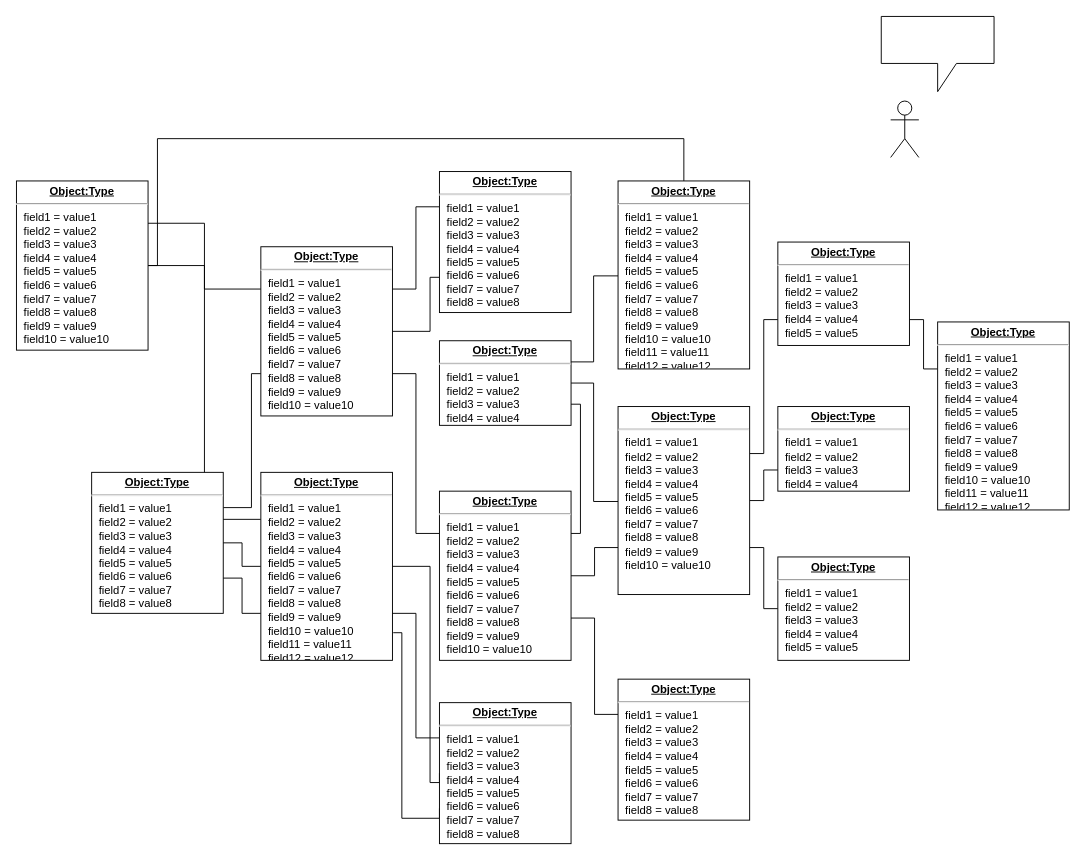
Image size: 1086x860. Some labels were removed from this diagram. The shapes that lost their labels are listed below. From the top down, each one's box as (x1, y1, x2, y2) in pixels, then its label:
(880, 16, 994, 92): Wow - den her database er godt nok flot.
(890, 100, 919, 157): Actor
